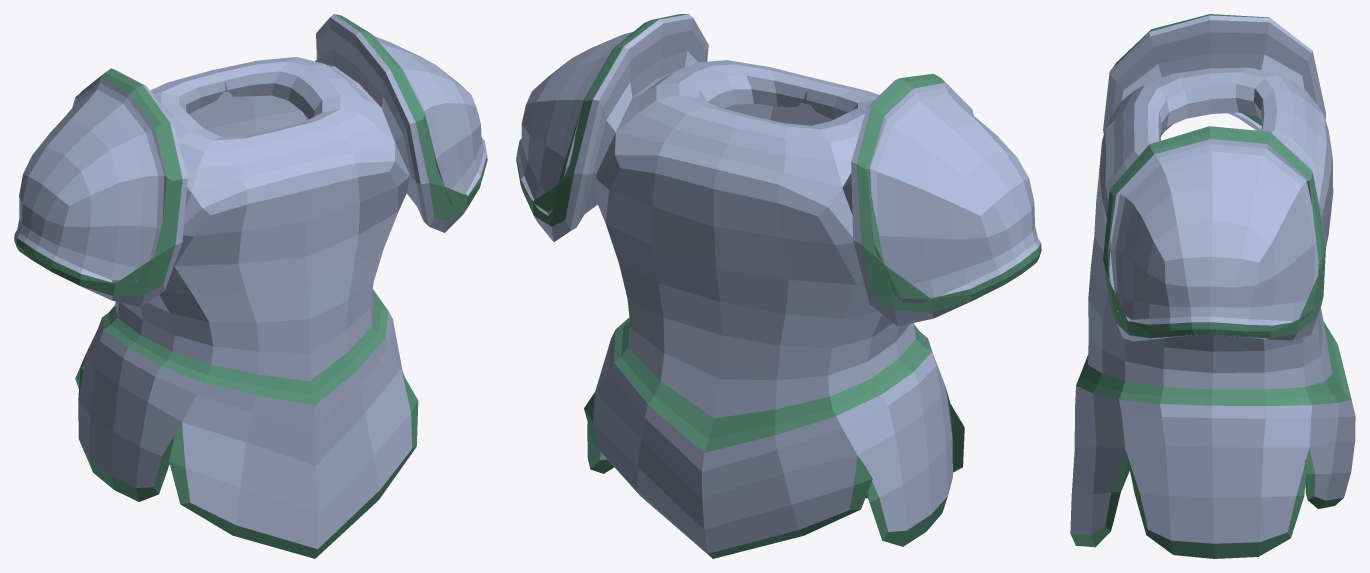
File: ArmorMithril.fbx
The picture shows the model from 3 angles, left to right: view 1: azimuth 30°, elevation 25°; view 2: azimuth 150°, elevation 25°; view 3: azimuth 270°, elevation 25°; orthographic projection. The views are drawn at different scales.
Visible parts, largest first — view 1: Body; view 2: Body; view 3: Body.
Boxes of the visible parts, x1,y1,x2,y2 form: Body: [14, 14, 487, 558]; Body: [516, 14, 1041, 558]; Body: [1070, 14, 1355, 558].
Size of the model in its own units: 481 by 459 by 250.
